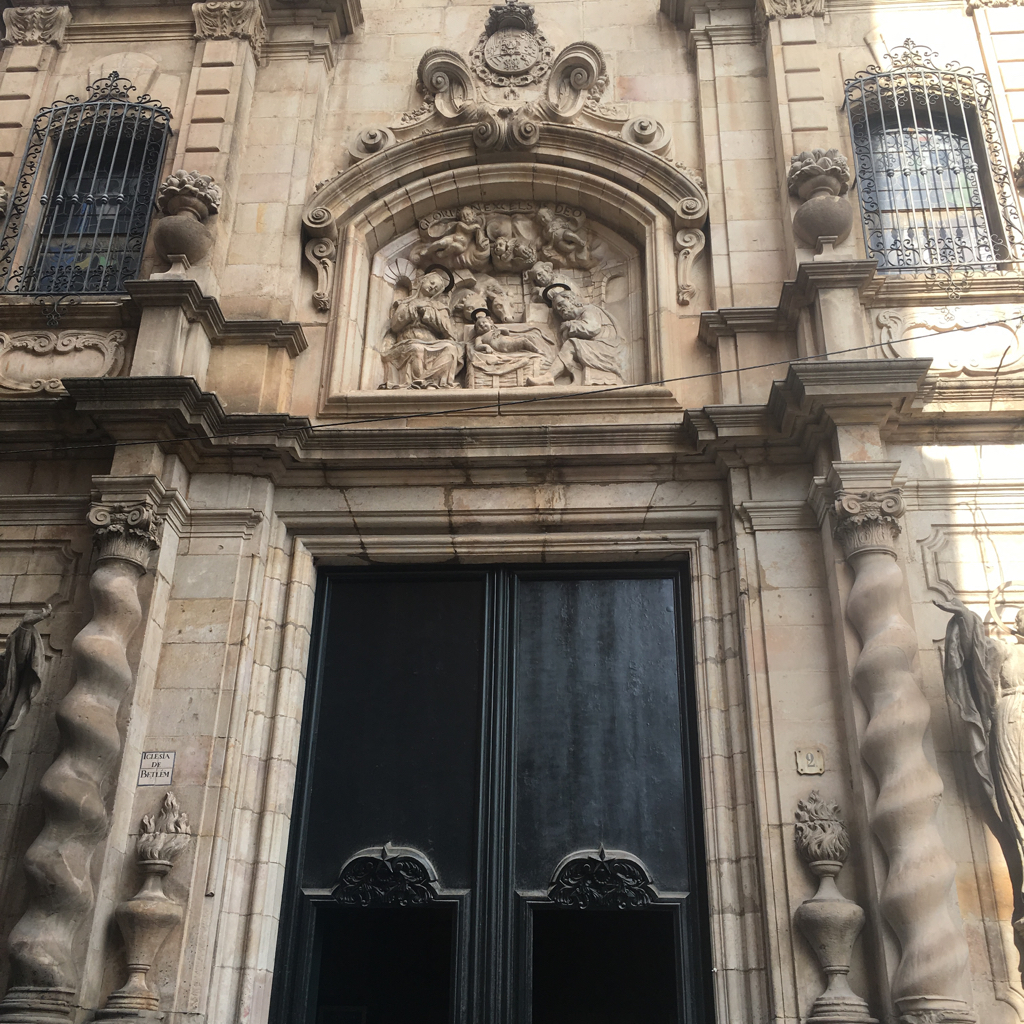columna-salomonica: (1, 549, 156, 1024), (836, 529, 980, 1020)
vano-adintelado: (243, 498, 754, 1024)
